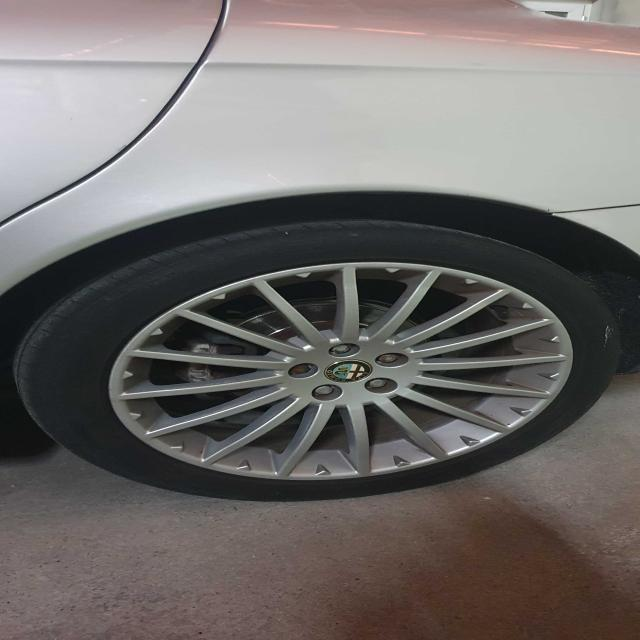jante: (104, 261, 575, 480)
parafuso: (275, 362, 322, 381), (325, 342, 363, 360), (366, 376, 398, 395), (378, 351, 412, 368), (312, 384, 346, 401)
roda: (9, 212, 622, 502)
